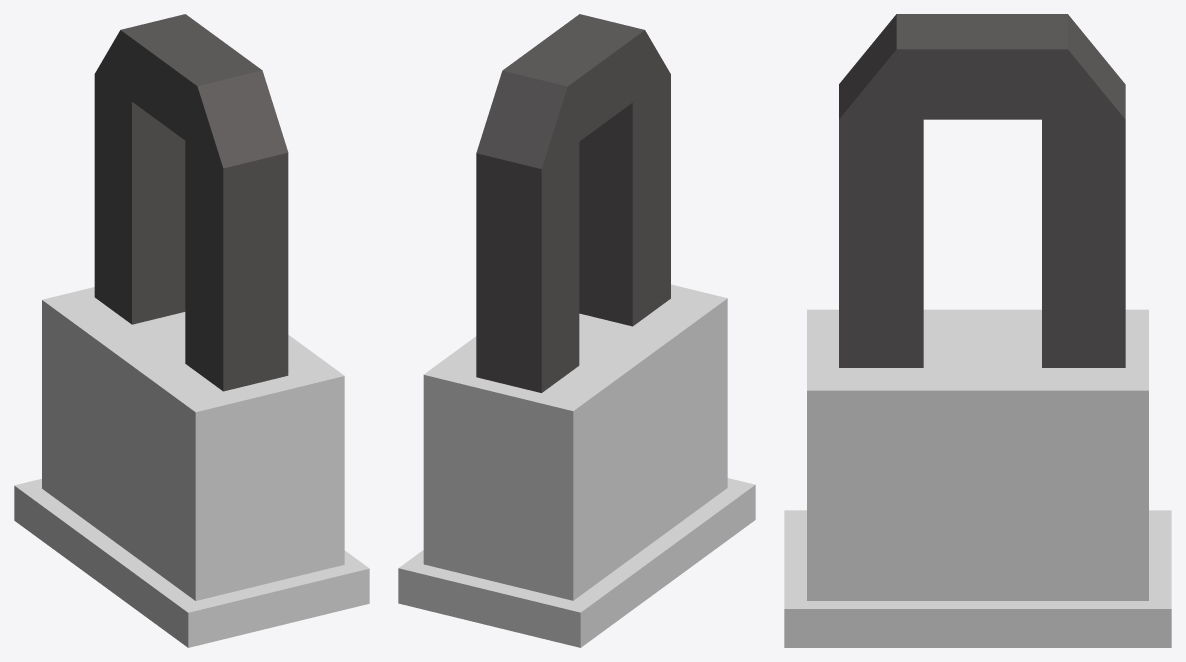
Rendered from Lock_Locked.fbx.
3 views of the same model, side by side, from view 1: azimuth 30°, elevation 25°; view 2: azimuth 150°, elevation 25°; view 3: azimuth 270°, elevation 25° (orthographic). The views are drawn at different scales.
Parts seen in each view (by area): view 1: Cube.001; view 2: Cube.001; view 3: Cube.001.
Boxes of the visible parts, x1=… form: Cube.001: x1=14, y1=14, x2=369, y2=647; Cube.001: x1=398, y1=14, x2=755, y2=647; Cube.001: x1=784, y1=14, x2=1171, y2=647.
Size of the model in its own units: 232 by 631 by 385.
